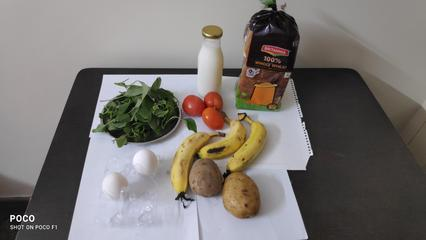banana: (206, 122, 273, 167), (175, 127, 195, 197)
bread: (238, 7, 293, 113)
eggs: (103, 146, 163, 211)
milk: (197, 20, 230, 96)
potato: (227, 171, 261, 213), (191, 160, 220, 198)
spinach: (112, 87, 166, 134)
tomato: (181, 88, 231, 126)
